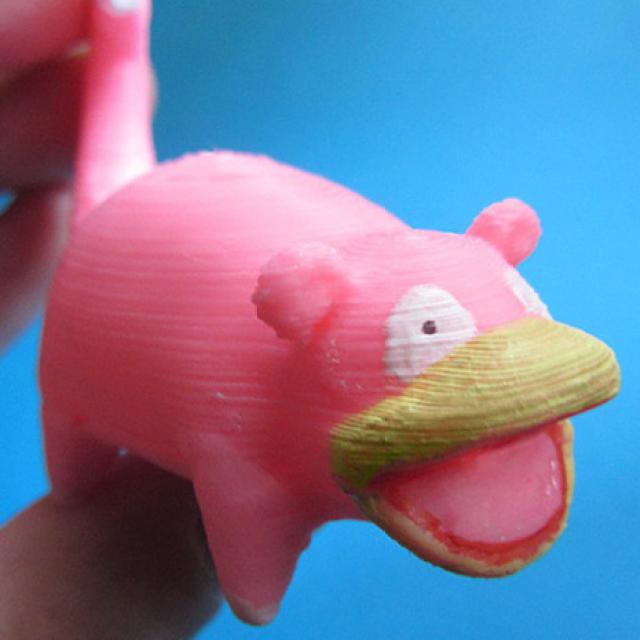Slowpoke: (40, 148, 616, 574)
